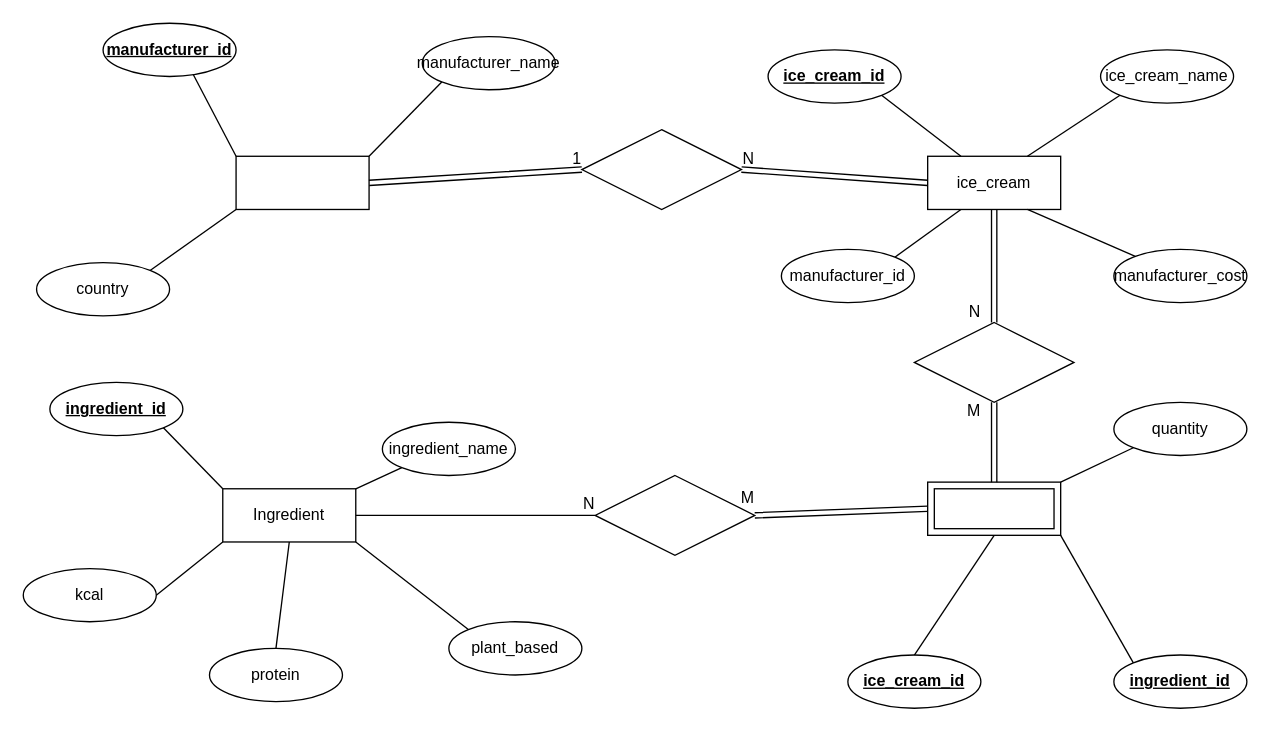
Image size: 1270x732. Some labels were removed from this diagram. The shapes that lost their labels are listed below. From the top down, each one's centre as x and y in pixels, then its label:
At point 302,182: "manufacturer".
At point 661,168: "produces".
At point 993,361: "includes".
At point 674,514: "is_in".
At point 993,508: "contains".
